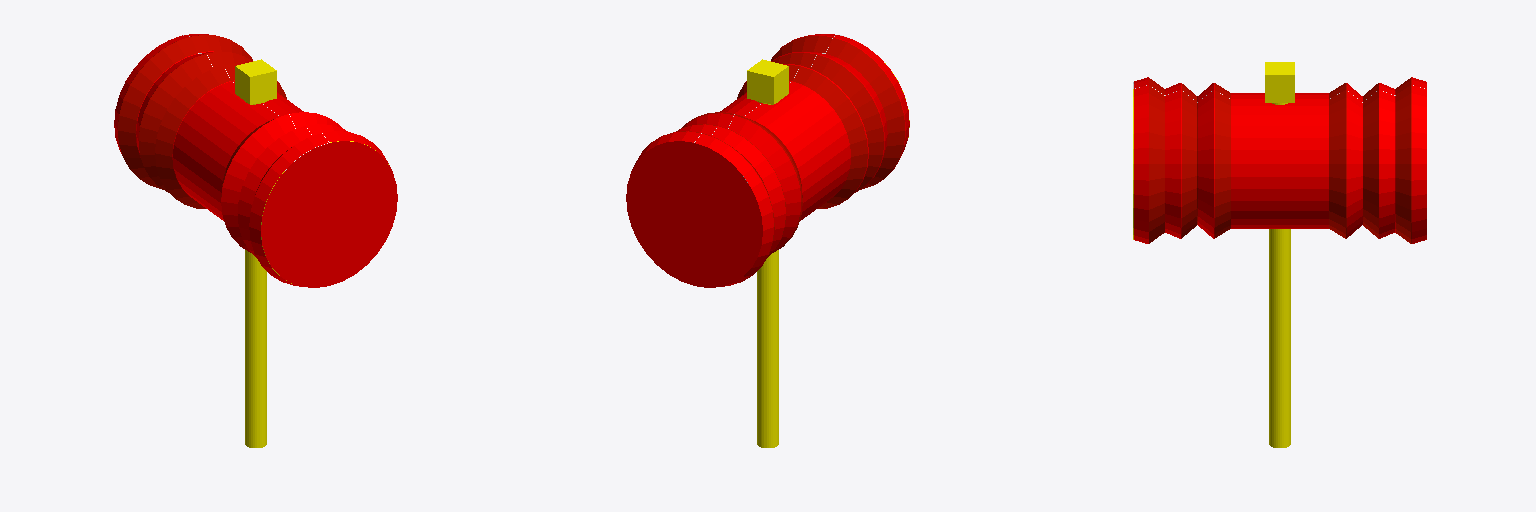
3 renders of one model, left to right at view 1: azimuth 30°, elevation 25°; view 2: azimuth 150°, elevation 25°; view 3: azimuth 270°, elevation 25°, orthographic.
Visible parts, largest first — view 1: 円柱; view 2: 円柱; view 3: 円柱.
Boxes of the visible parts, x1=… form: 円柱: x1=114, y1=34, x2=397, y2=447; 円柱: x1=626, y1=34, x2=909, y2=447; 円柱: x1=1133, y1=62, x2=1426, y2=447.
Bounding box in the file's own units: 1.67 × 4.14 × 2.93.
1 materials, 1 textured.